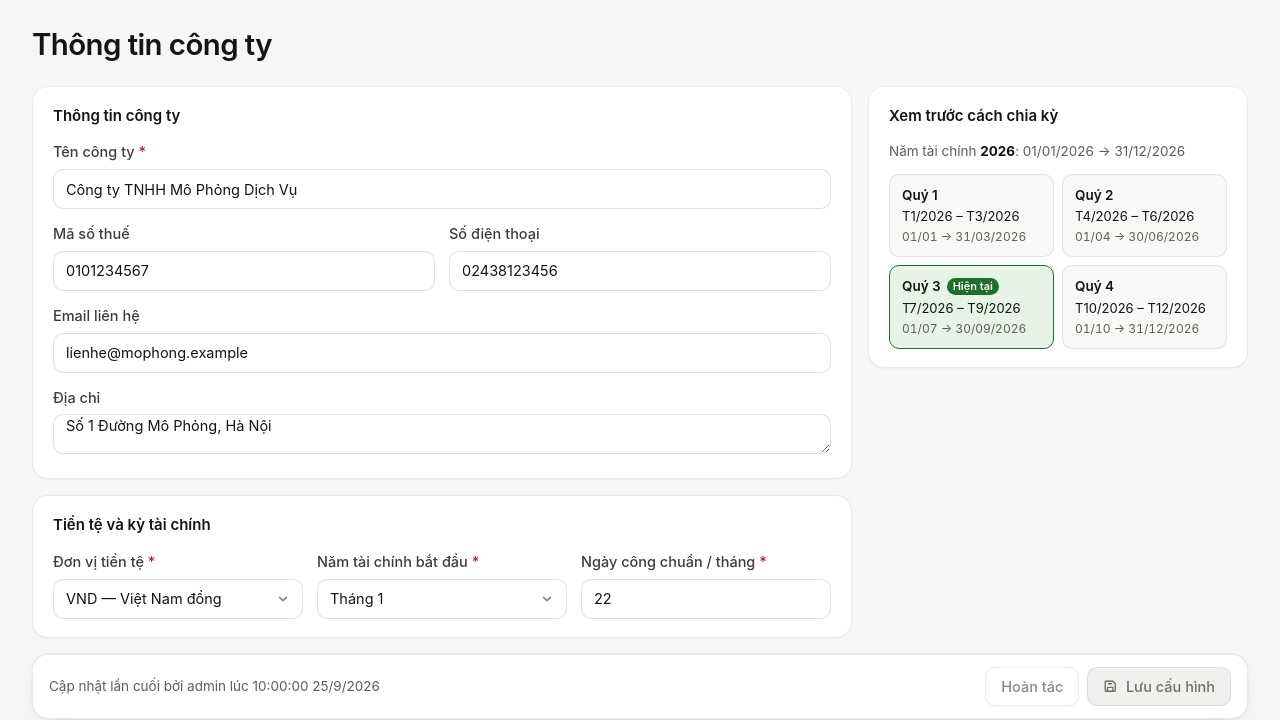
CompanySettingPage (NCL-15-CN-002) › "Hoàn tác" trả form về cấu hình đã lưu
Replace the text in the field with test id "company-input-name" with "Tên mới": (442, 189) [53, 169, 831, 209]
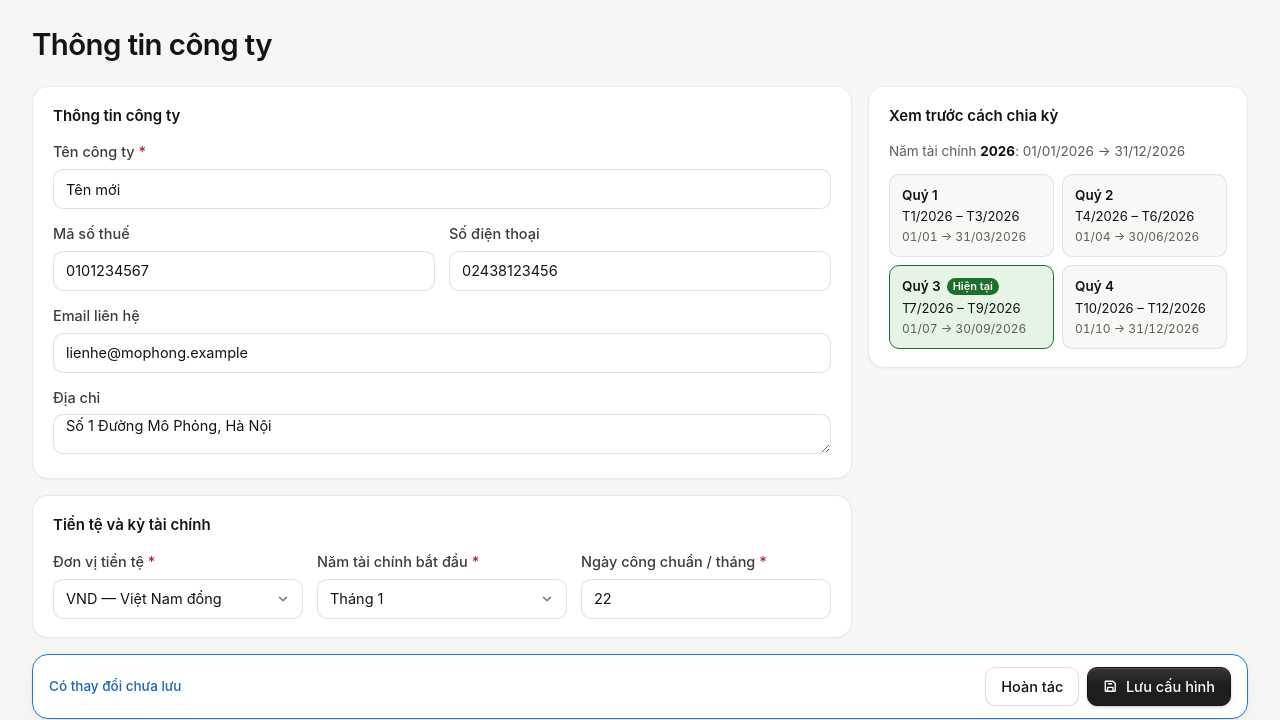
Check: the text with test id "company-status" reads "Có thay đổi chưa lưu", box [49, 678, 182, 694]
Click the button with test id "company-reset": (1032, 686) [985, 667, 1079, 706]
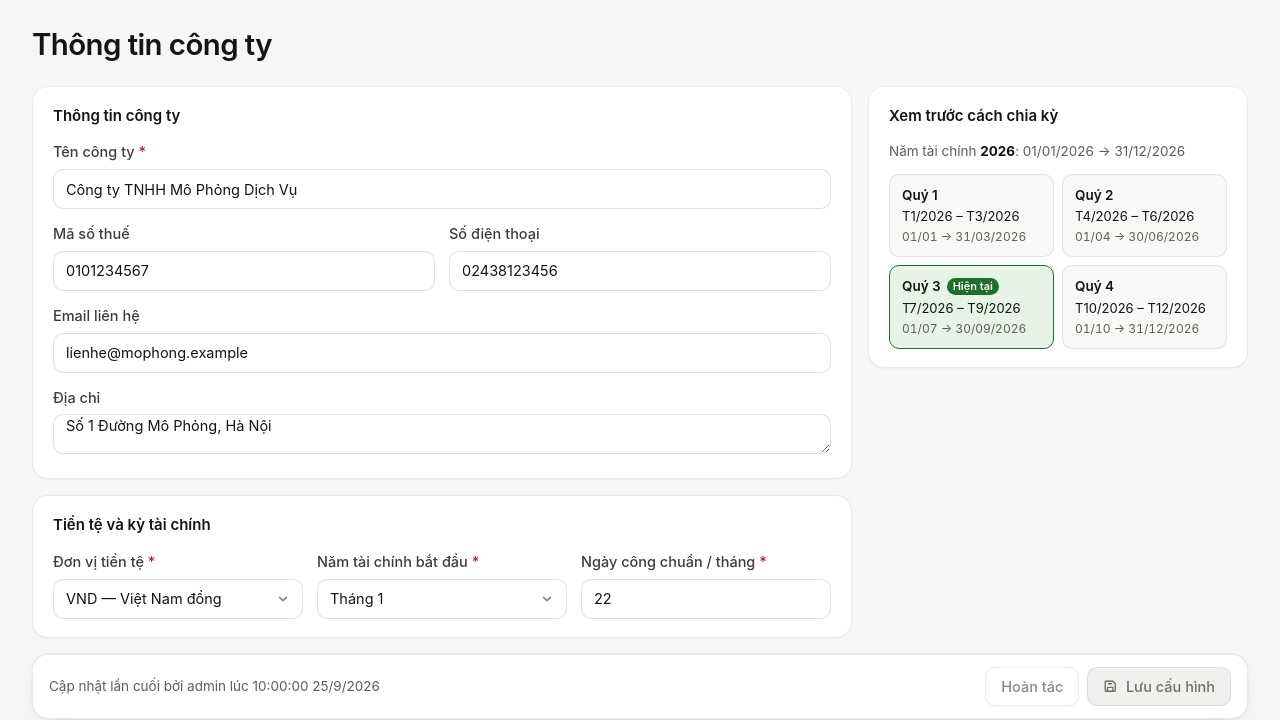
Check: the field with test id "company-input-name" holds "Công ty TNHH Mô Phỏng Dịch Vụ", box [53, 169, 831, 209]
Check: the button with test id "company-save" is disabled, box [1087, 667, 1231, 706]
